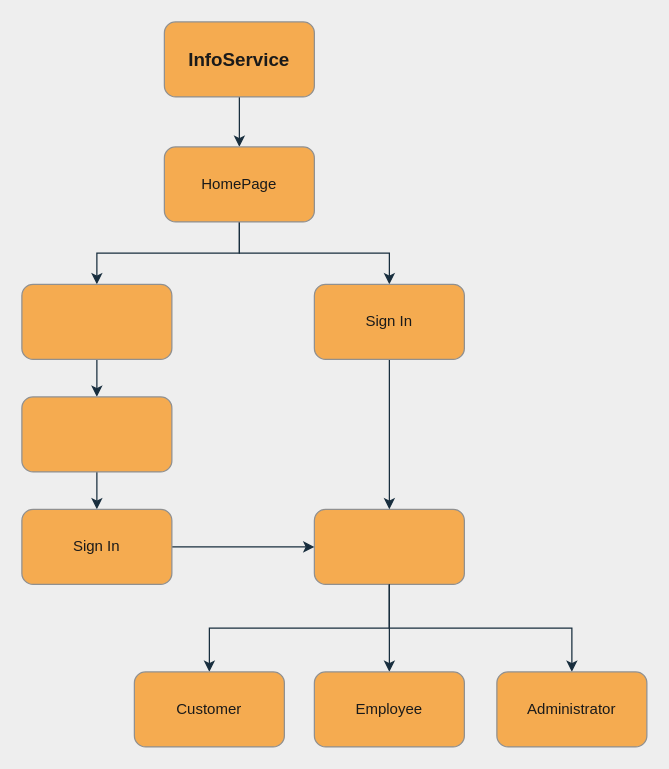
This 669x769 diagram has some shape labels left out. Here are the shapes that lost their labels. From the top down, the centre of each, then its label:
At [96,321]: "Public".
At [96,434]: "Sign Up".
At [388,546]: "Private".
